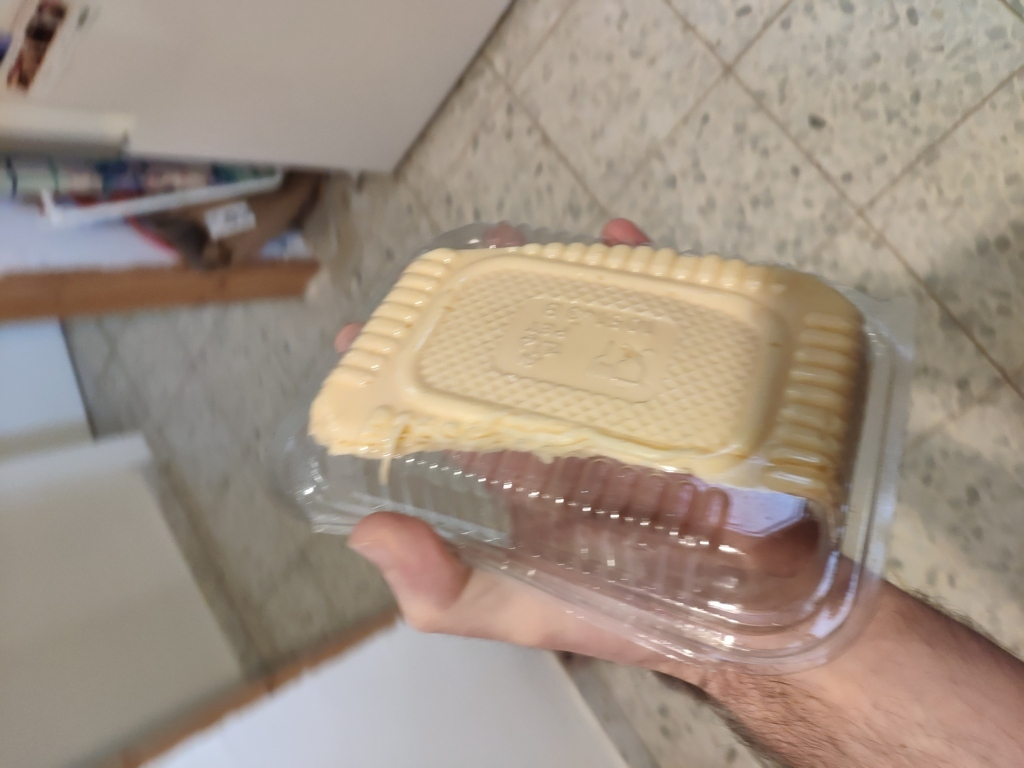Cheese: (425, 293, 940, 547)
